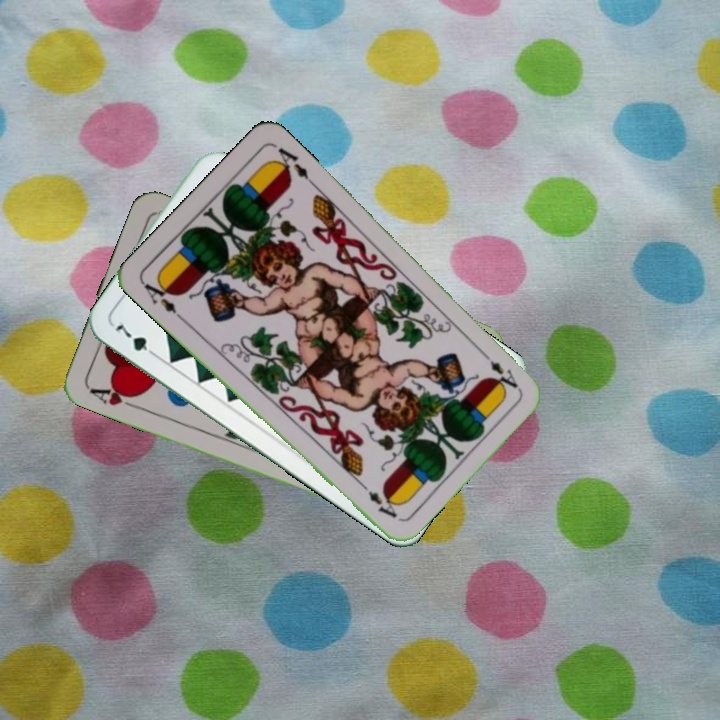EA: (138, 274, 187, 323), (476, 346, 520, 391)
G7: (111, 320, 161, 361)
HA: (85, 381, 142, 412)
